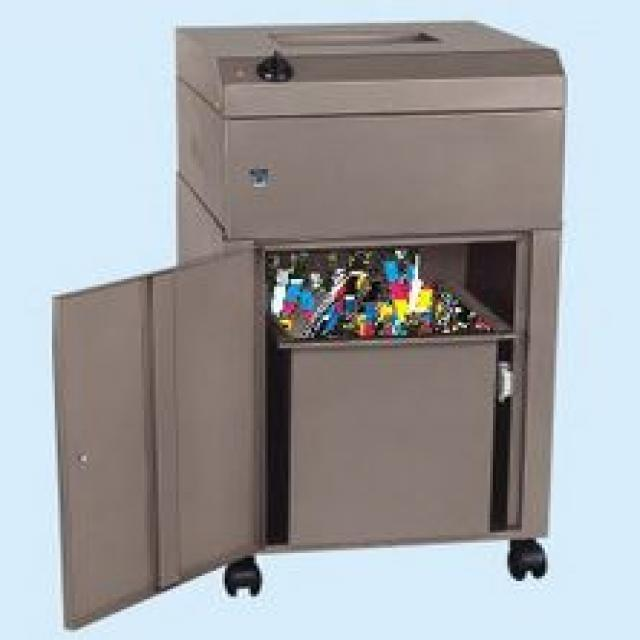palette: (48, 15, 566, 634)
